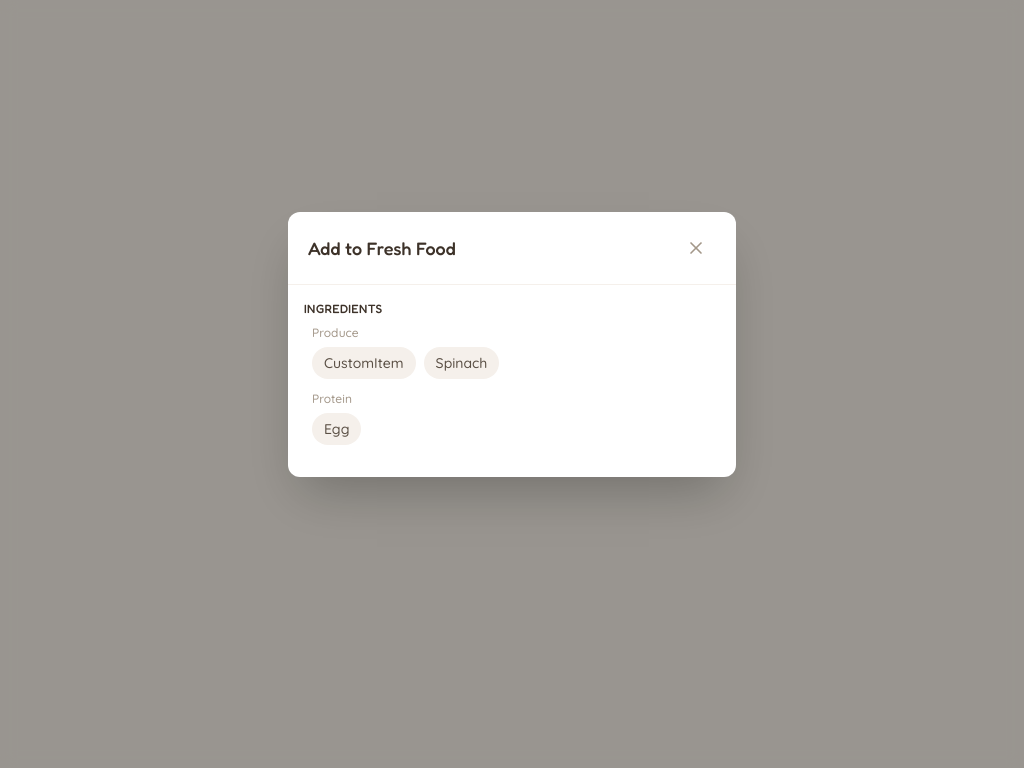
AddItemModal - defaultExpiryDays › calculates different expiry dates for different items
Note: Click on Spinach (5 days expiry)
Click the button "Spinach". click: click(462, 362)
box: x1=424 y1=346 x2=499 y2=378
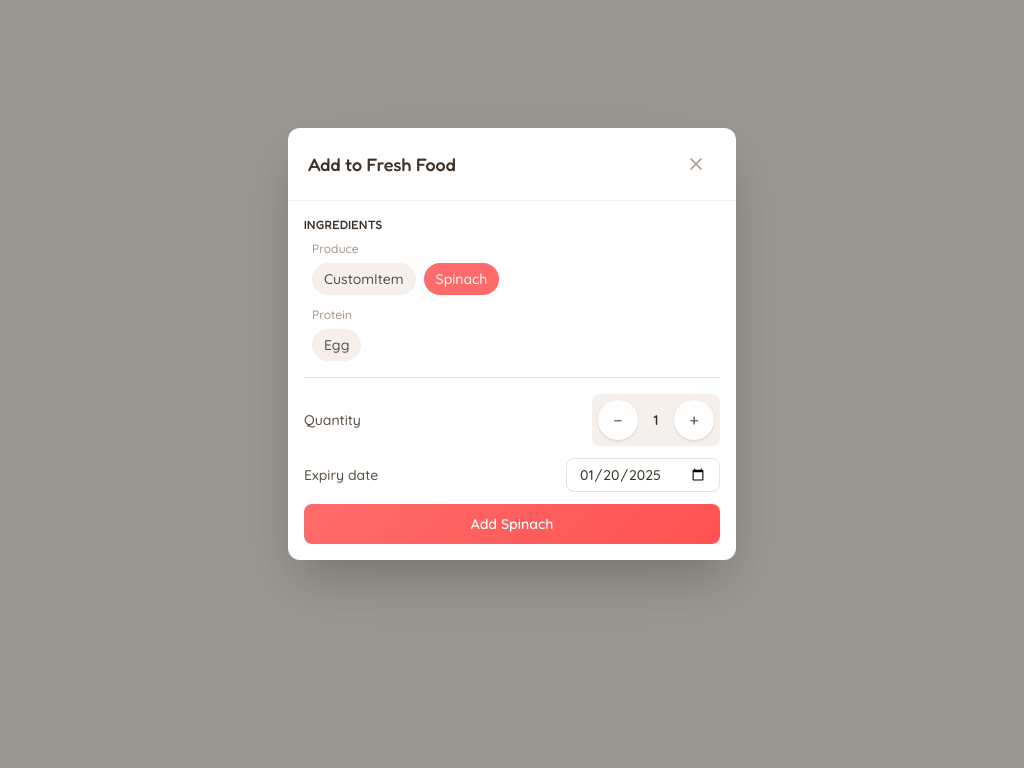
Check: the date field showing "2025-01-20" is shown, box x1=566 y1=458 x2=720 y2=492
